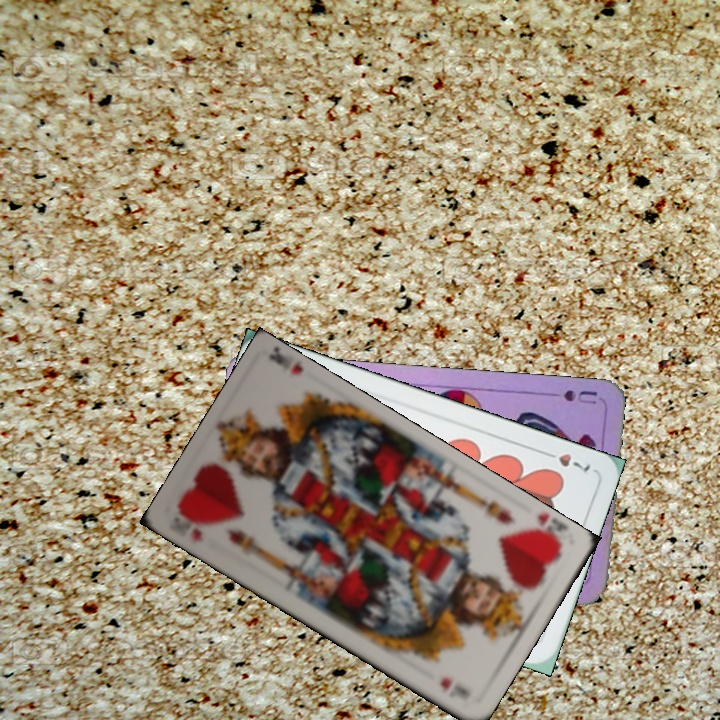H7: (538, 446, 593, 475)
HK: (523, 510, 569, 552), (166, 507, 213, 546)
SU: (559, 385, 600, 406)
